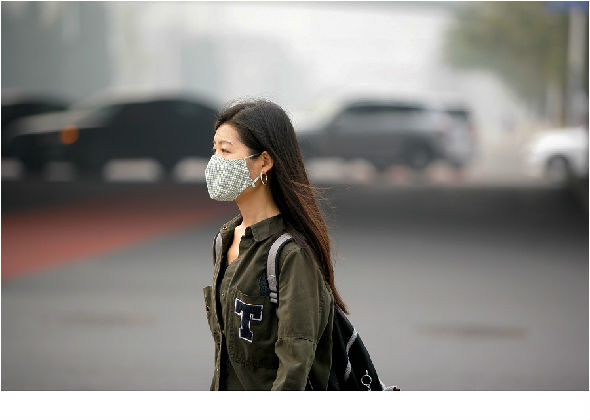face_mask: (202, 120, 263, 198)
